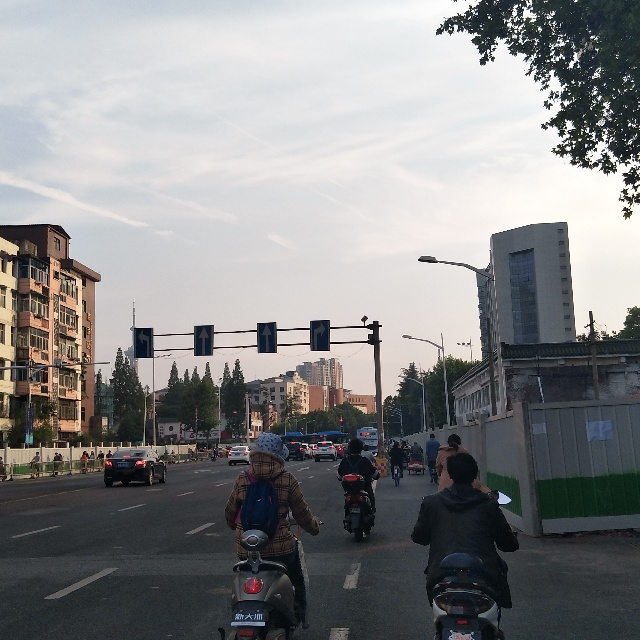left: (134, 328, 154, 358)
right: (310, 320, 330, 351)
straight: (194, 325, 214, 356), (257, 323, 277, 353)
